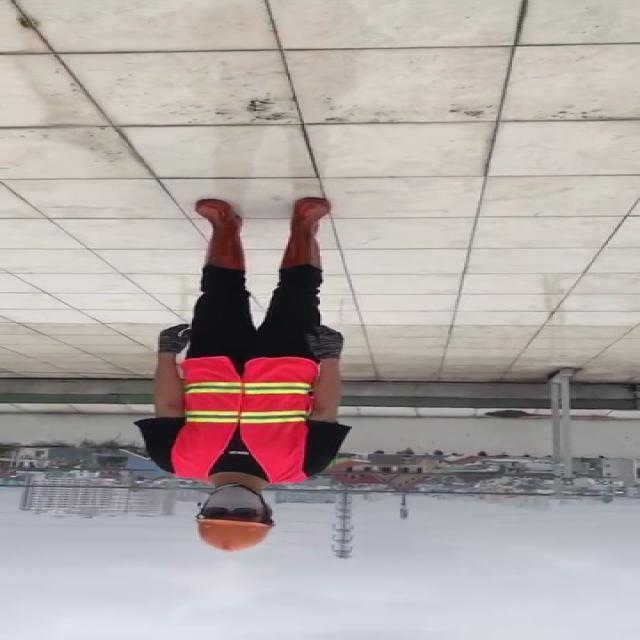Boots: (282, 195, 340, 267), (193, 203, 246, 269)
Gloves: (145, 320, 202, 356), (305, 322, 349, 362)
Helmet: (191, 515, 274, 553)
Vest: (170, 356, 318, 482)
